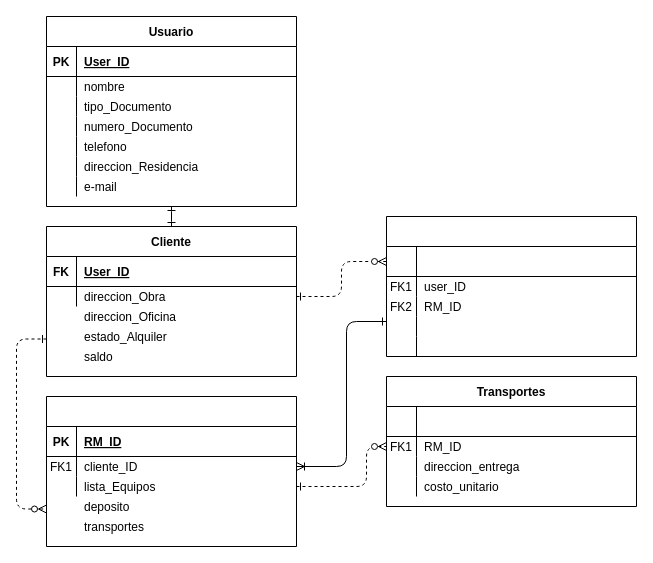
The diagram is 653 pixels wide and 563 high, and some of its shapes have lost their labels. The shapes that lost their labels are listed below. From the top down, each one's box as (x1, y1, x2, y2) in pixels, then its label:
(386, 216, 636, 356): Alquiler de Equipos
(46, 396, 296, 546): Remision
